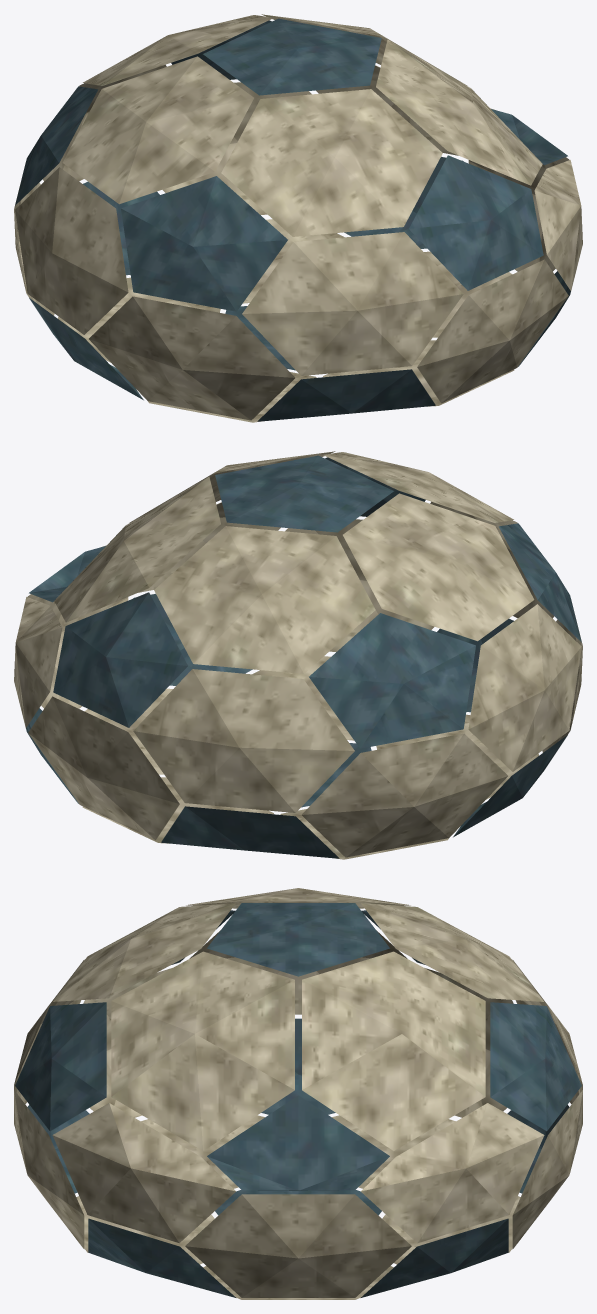
Rendered from by_ball.glb.
The picture shows the model from 3 angles, top to bottom: view 1: azimuth 30°, elevation 25°; view 2: azimuth 150°, elevation 25°; view 3: azimuth 270°, elevation 25°; orthographic projection.
Visible parts, largest first — view 1: by_ball; view 2: by_ball; view 3: by_ball.
Boxes of the visible parts, x1,y1,x2,y2 form: by_ball: (14, 14, 582, 422); by_ball: (14, 451, 582, 859); by_ball: (14, 888, 582, 1299).
Bounding box in the file's own units: 0.2259 × 0.1262 × 0.2255.
1 material, 1 textured.
